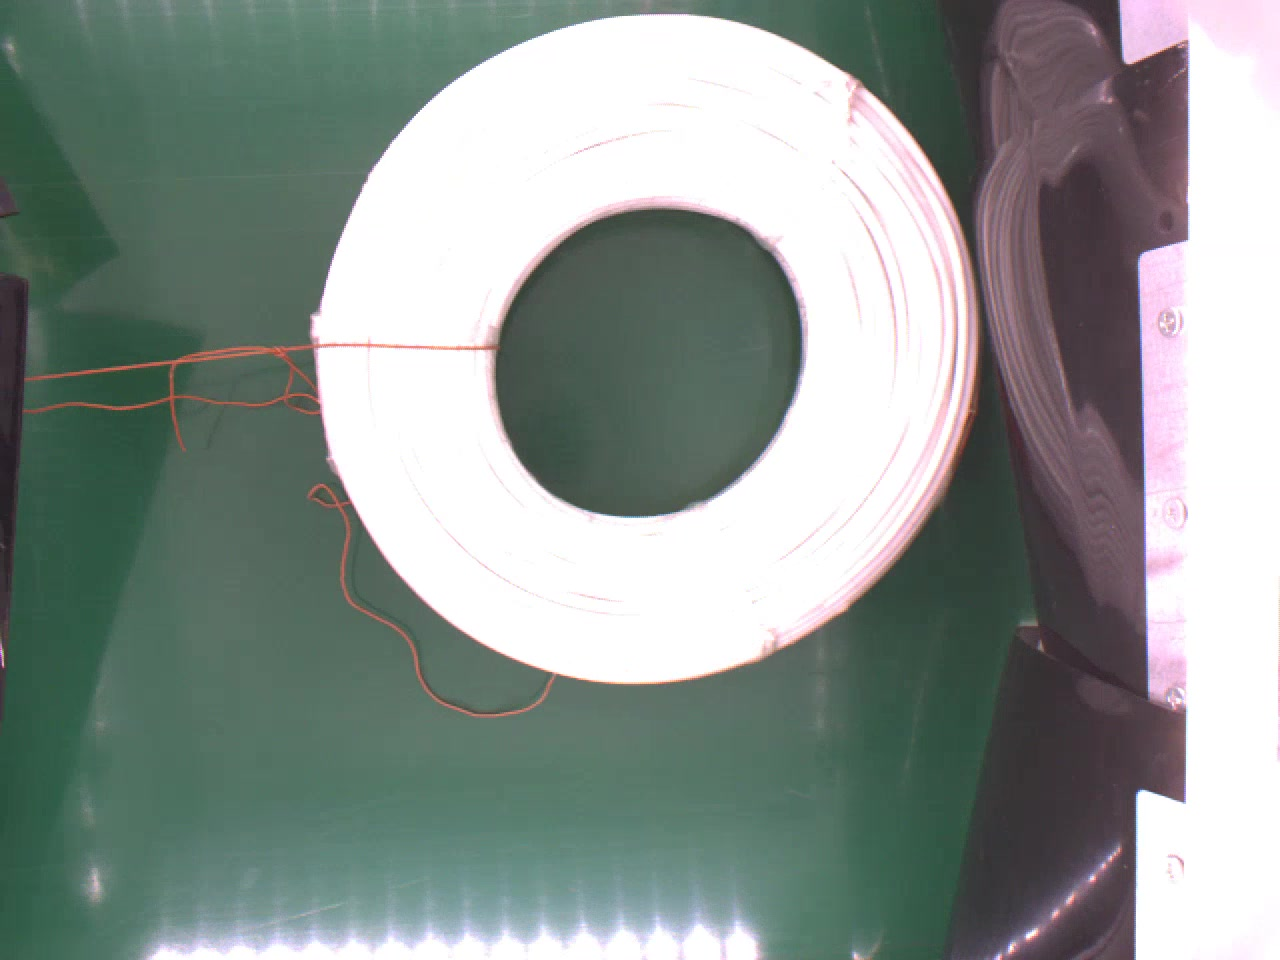white: (314, 13, 977, 691)
